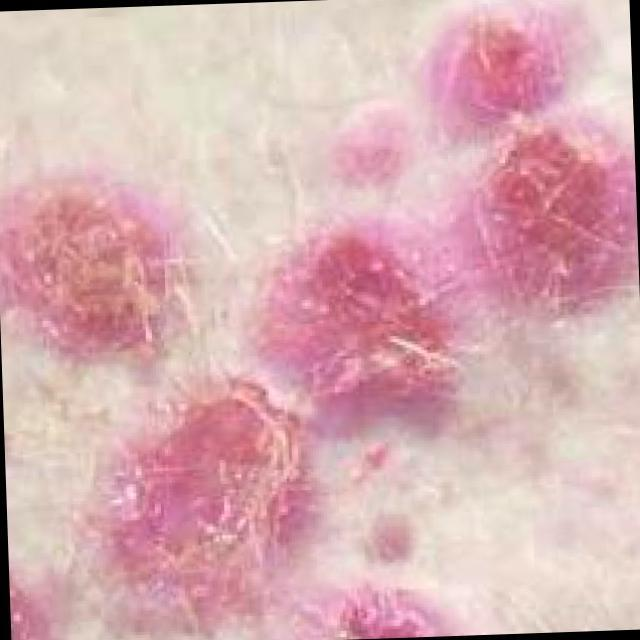Eczema: (0, 12, 620, 640)
